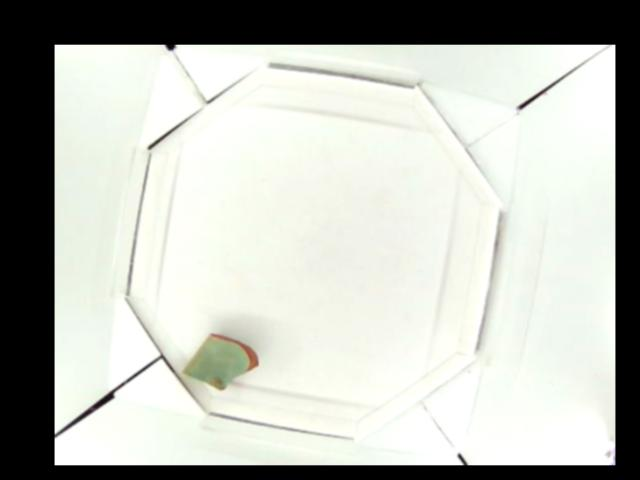China: (179, 332, 260, 389)
